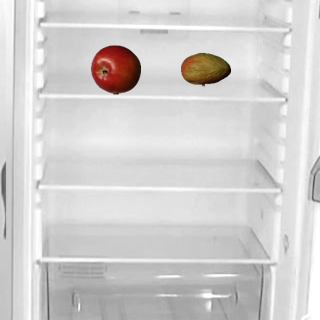Apple Braeburn: (90, 44, 140, 94)
Papaya: (180, 44, 230, 94)
